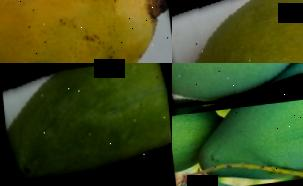PartiallyRipe: (172, 0, 303, 63)
Ripe: (0, 0, 172, 63)
Unripe: (0, 63, 172, 186), (172, 63, 303, 109)
